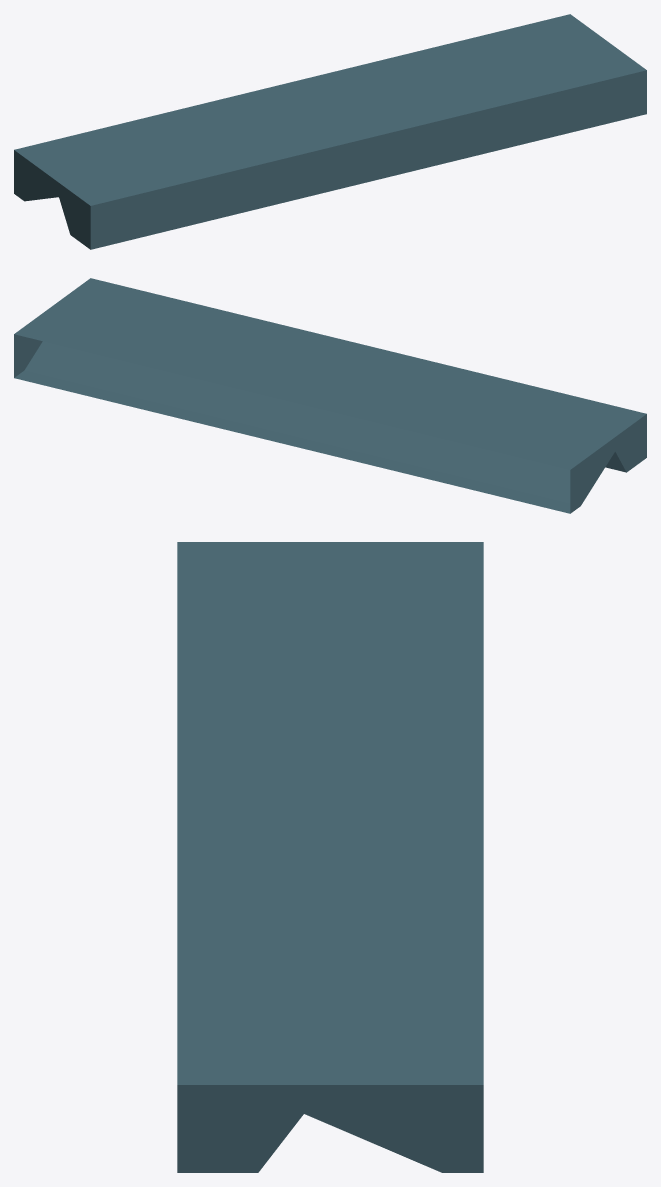
File: cornice.fbx
The picture shows the model from 3 angles, top to bottom: view 1: azimuth 30°, elevation 25°; view 2: azimuth 150°, elevation 25°; view 3: azimuth 270°, elevation 25°; orthographic projection. The views are drawn at different scales.
Parts seen in each view (by area): view 1: cornice; view 2: cornice; view 3: cornice.
Part boxes in pixels (bbox=[...]): cornice: bbox=[14, 14, 646, 249]; cornice: bbox=[14, 278, 646, 513]; cornice: bbox=[177, 542, 483, 1172].
Size of the model in its own units: 22.11 by 5.28 by 1.67.
